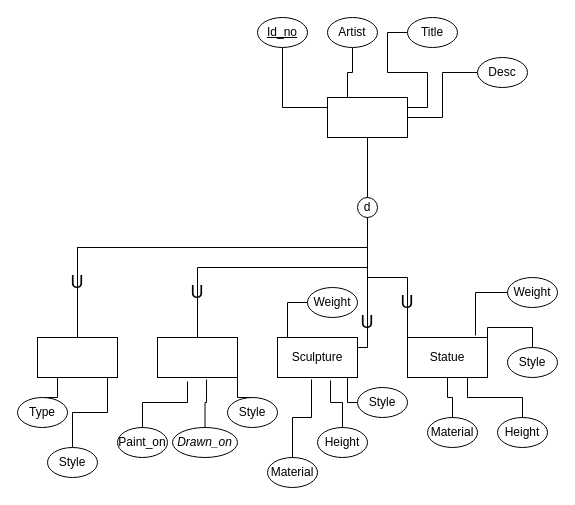
This 575x505 diagram has some shape labels left out. The shapes that lost their labels are listed below. From the top down, each one's centre as x and y in pixels, then its label:
At (x=367, y=117): "Art_object".
At (x=77, y=357): "Other".
At (x=197, y=357): "Painting".
